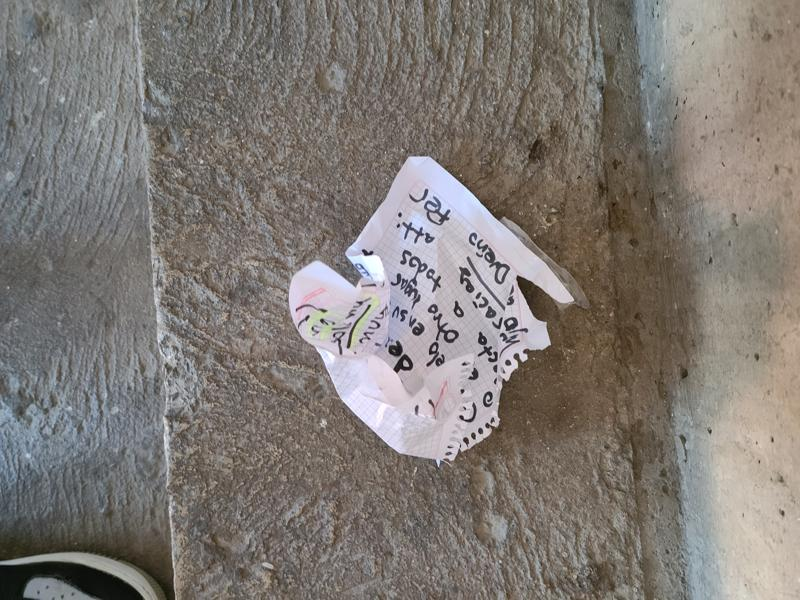papel: (287, 157, 590, 464)
